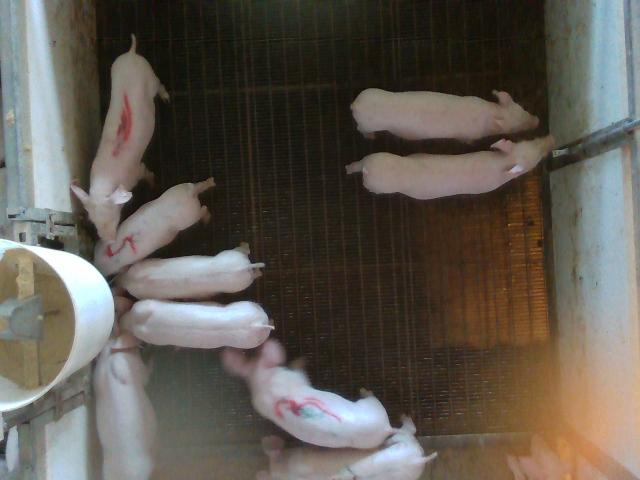pig-1: (71, 35, 169, 243)
pig-3: (222, 339, 394, 448)
pig-5: (95, 178, 215, 276)
